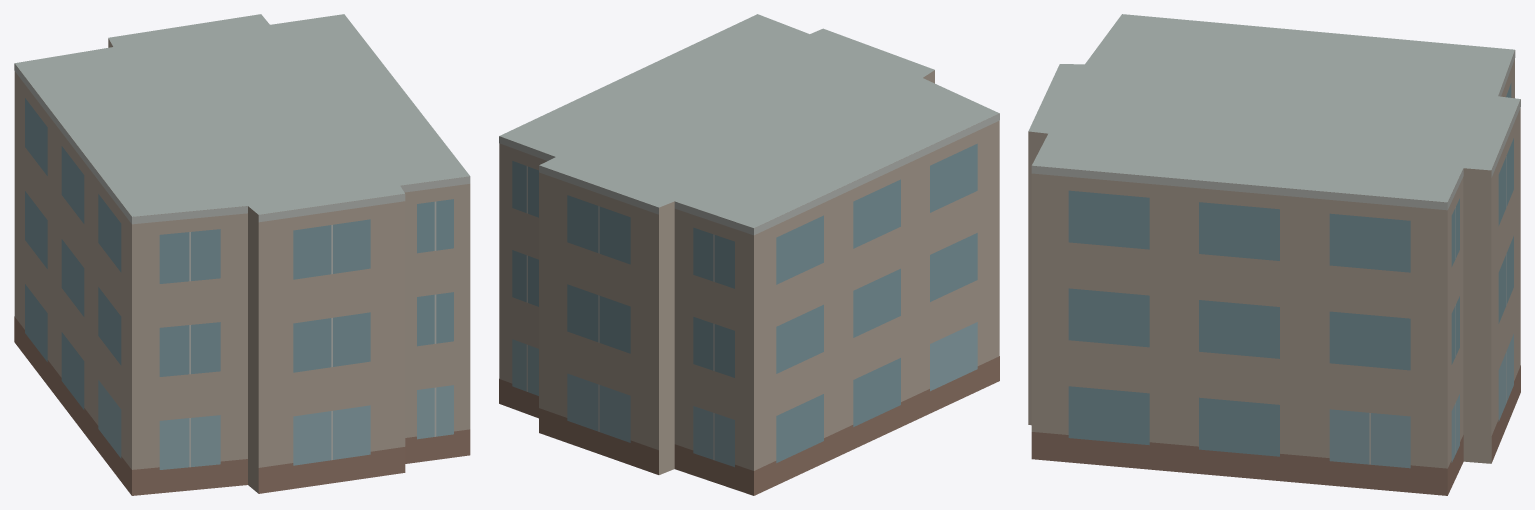
File: survey-upis-32756189.glb
3 views of the same model, side by side, from view 1: azimuth 30°, elevation 25°; view 2: azimuth 150°, elevation 25°; view 3: azimuth 270°, elevation 25° (orthographic). The views are drawn at different scales.
Visible parts, largest first — view 1: survey-upis-32756189.tmp; view 2: survey-upis-32756189.tmp; view 3: survey-upis-32756189.tmp.
Boxes of the visible parts, left/top/right/bottom form: survey-upis-32756189.tmp: left=14, top=14, right=470, bottom=495; survey-upis-32756189.tmp: left=499, top=14, right=999, bottom=495; survey-upis-32756189.tmp: left=1028, top=14, right=1520, bottom=495.
Size of the model in its own units: 12.54 by 9.1 by 13.85.
